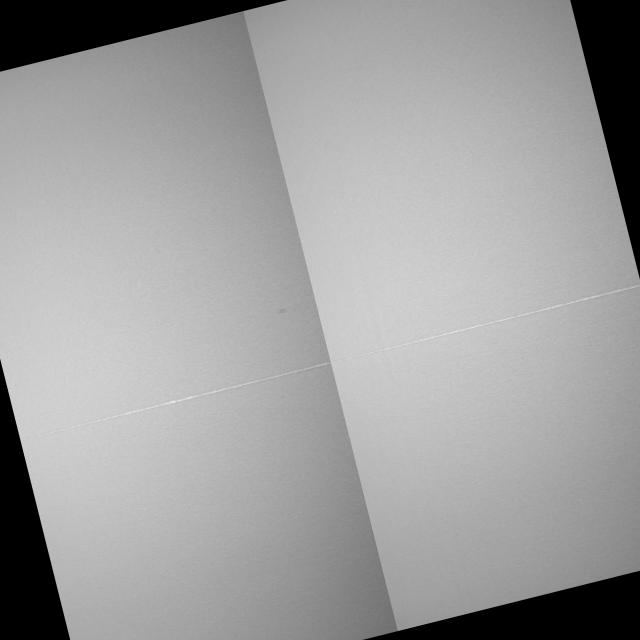Stain: (271, 304, 290, 316)
Warp_Weft: (19, 282, 640, 441)
